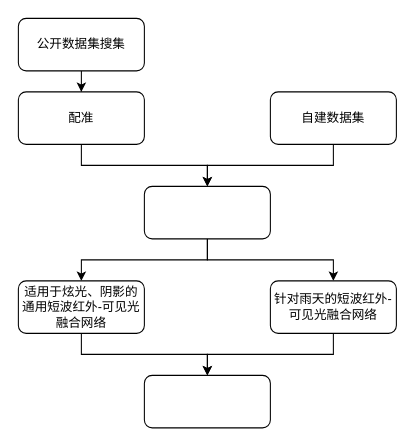
Image size: 415x446. Some labels were removed from this diagram. Here are the shapes that lost their labels. From the top down, the box of each, then its label:
(143, 185, 270, 239): 算法设计与开发
(143, 374, 270, 428): 算法评估
